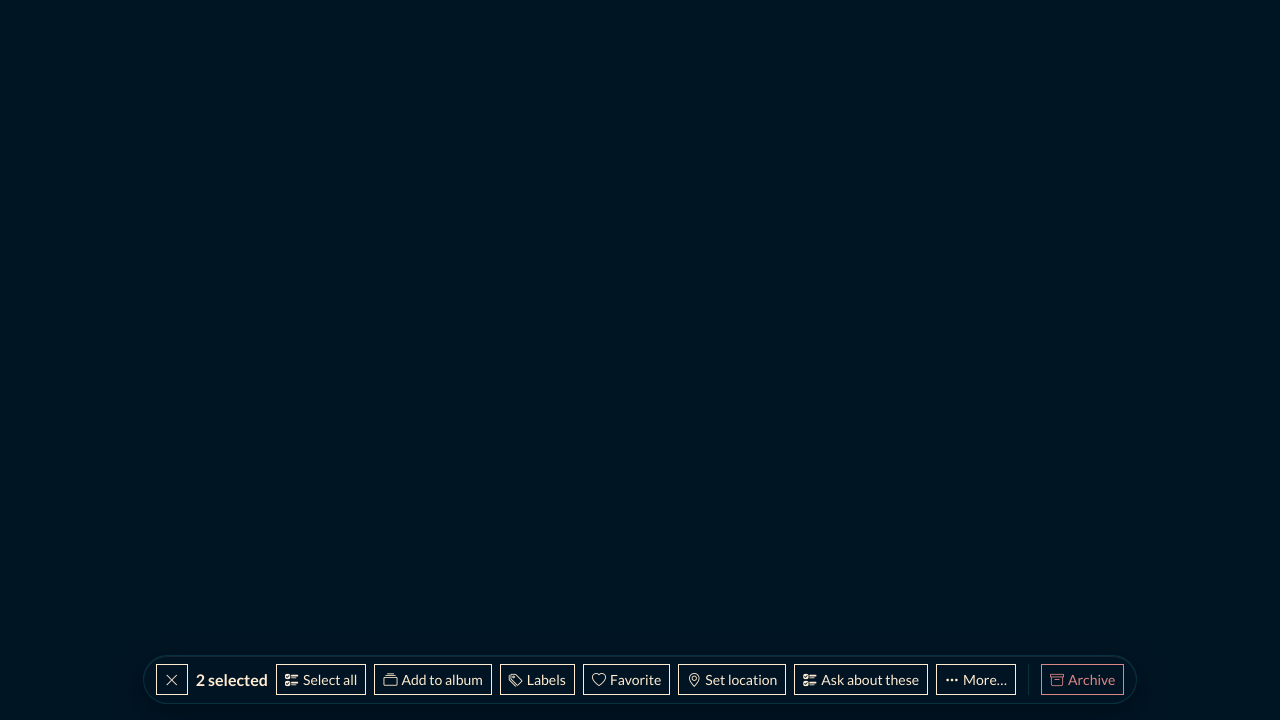
Scenario: BatchActionBar › applies favorite to the whole batch, toasts success and clears the selection
The image size is (1280, 720).
Click the button "Favorite" at (627, 680), box top-left (583, 664), bottom-right (670, 695)
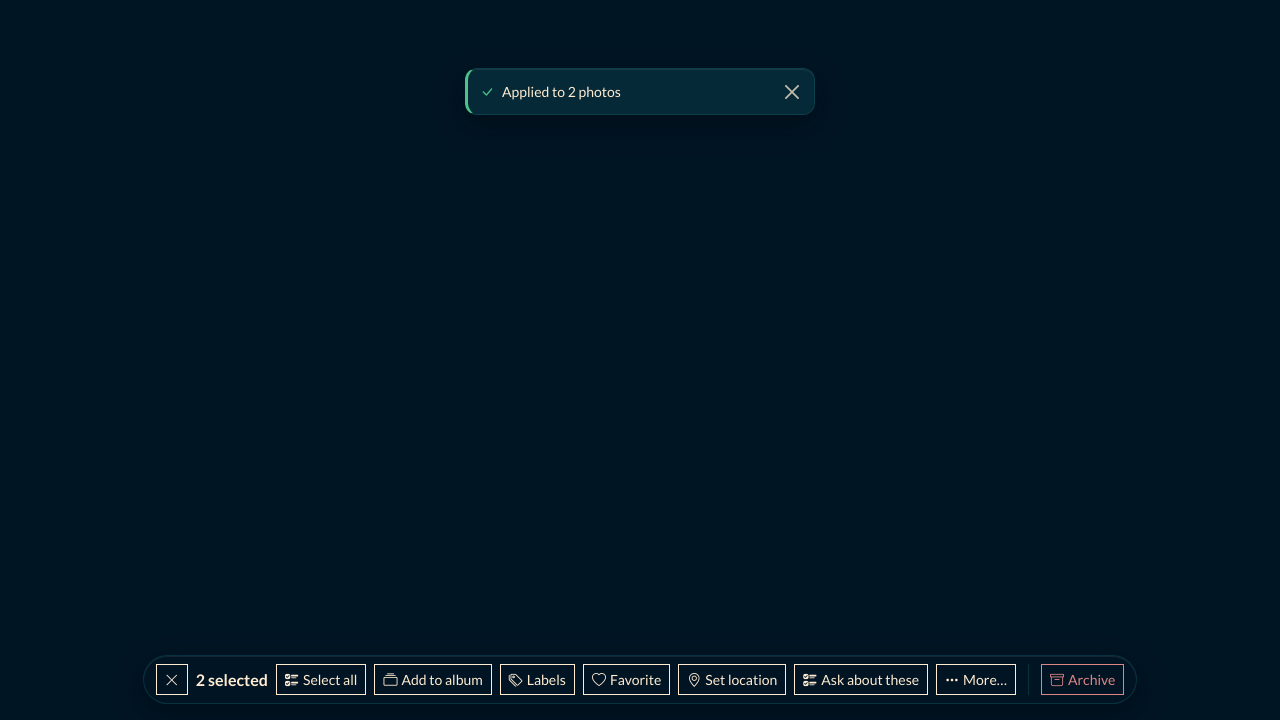
Expected: the text "Applied to 2 photos" is shown, top-left (502, 81), bottom-right (621, 102)
